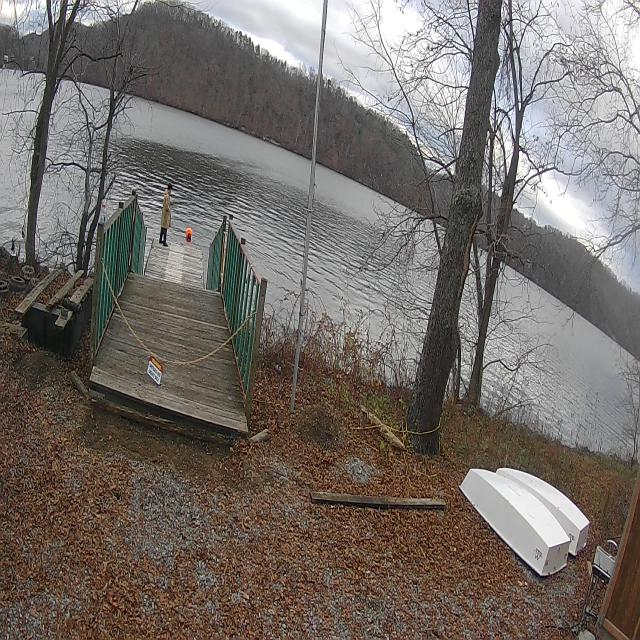Buoy: (185, 228, 193, 245)
